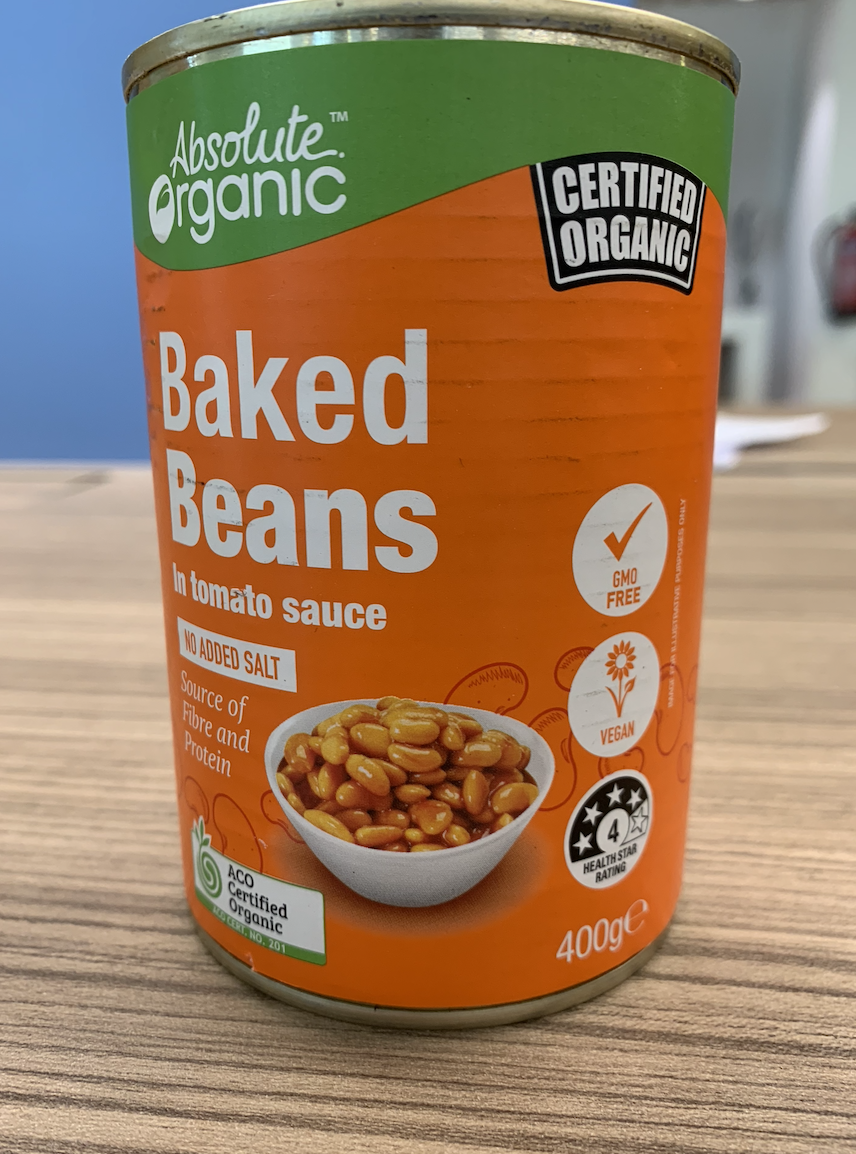Baked beans_400-499g: (174, 58, 663, 958)
